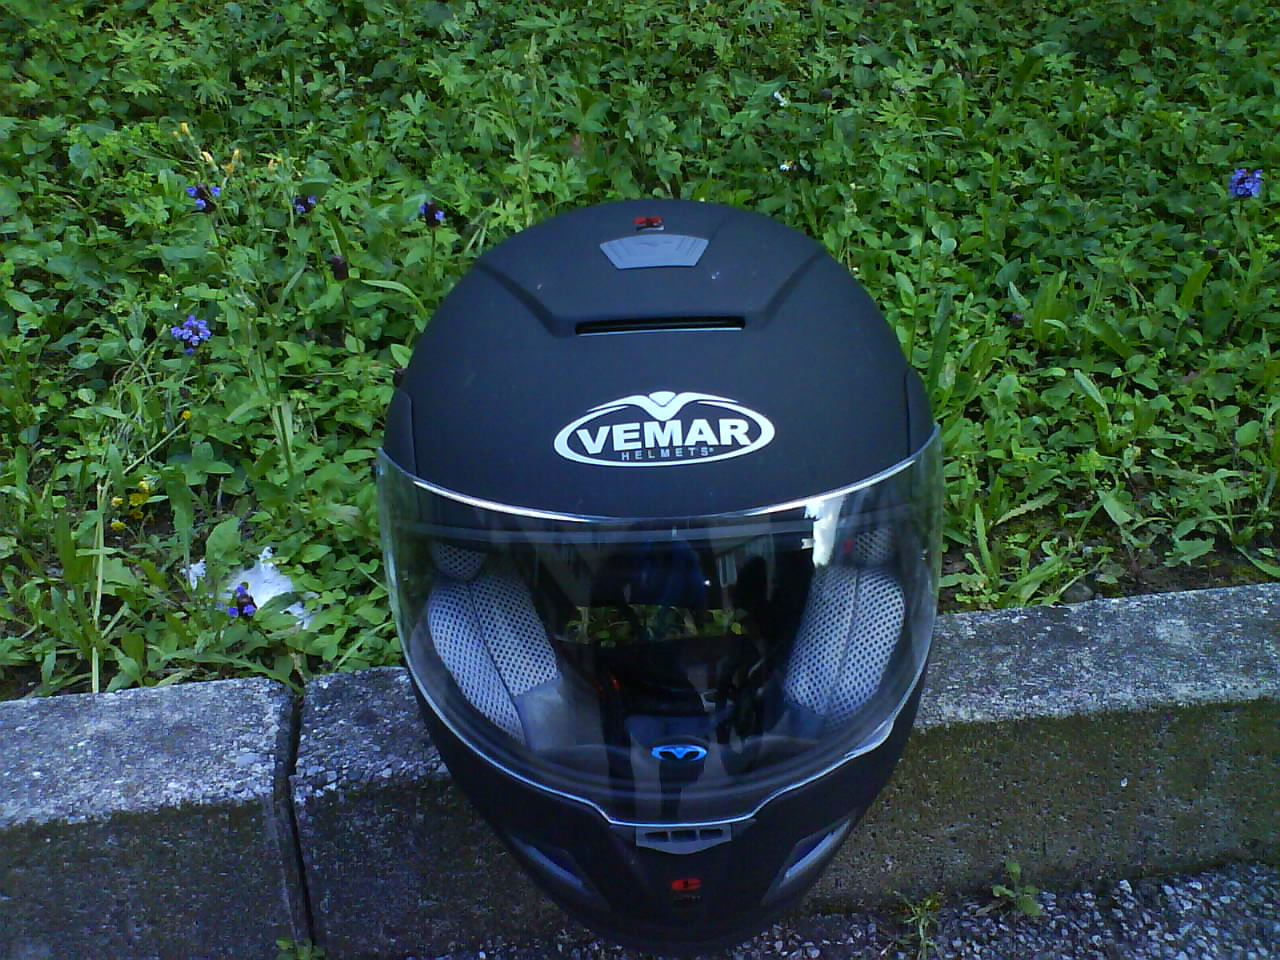helmet: (398, 234, 933, 859)
